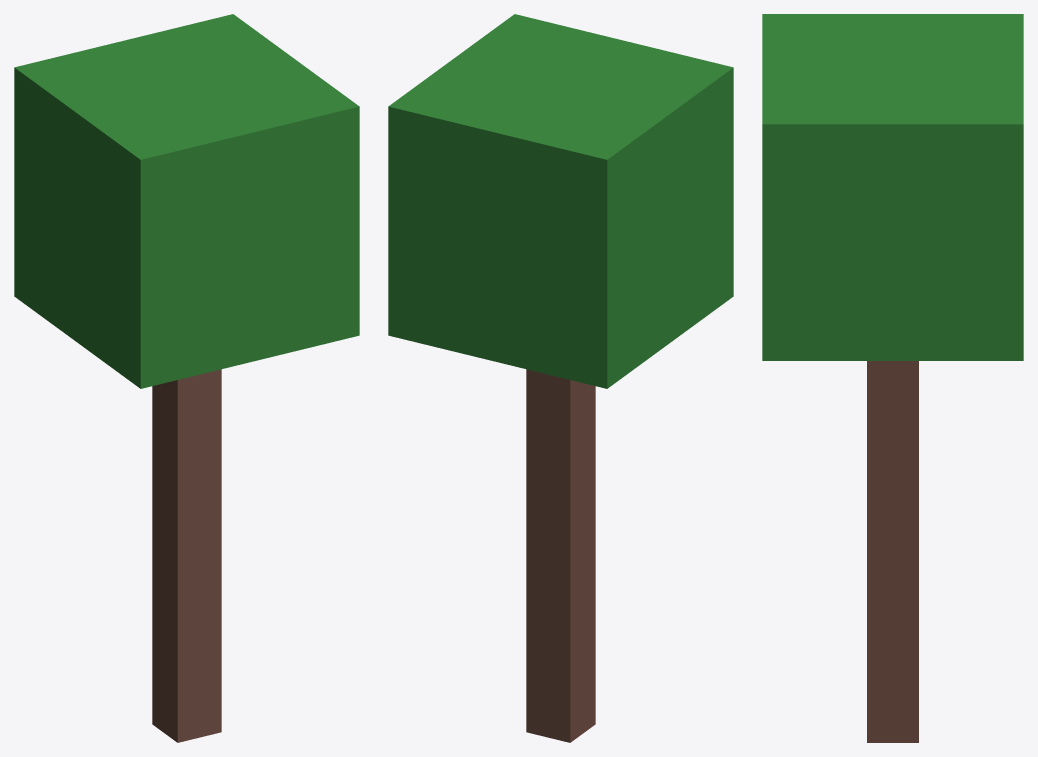
File: Plants-6-Simple Tree.obj
3 renders of one model, left to right at view 1: azimuth 30°, elevation 25°; view 2: azimuth 150°, elevation 25°; view 3: azimuth 270°, elevation 25°, orthographic. The views are drawn at different scales.
Parts seen in each view (by area): view 1: Simple Tree; view 2: Simple Tree; view 3: Simple Tree.
Part boxes in pixels (box(x1,y1,x2,y2)): Simple Tree: box(14, 14, 359, 742); Simple Tree: box(388, 14, 733, 742); Simple Tree: box(762, 14, 1023, 742).
Bounding box in the file's own units: 2 × 5.6 × 2.
1 material, 1 textured.
